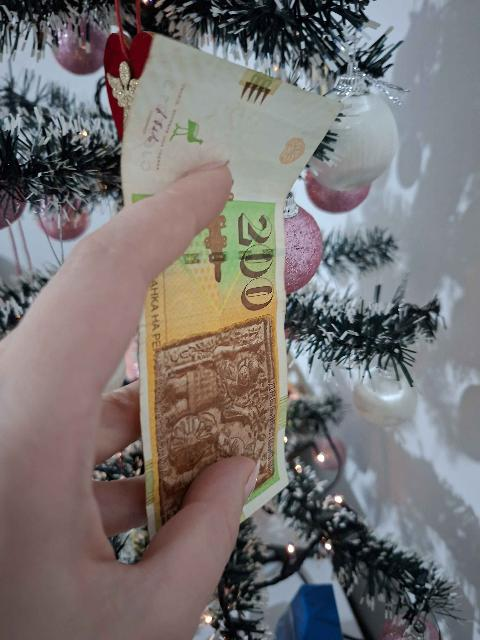200_note: (122, 36, 339, 535)
